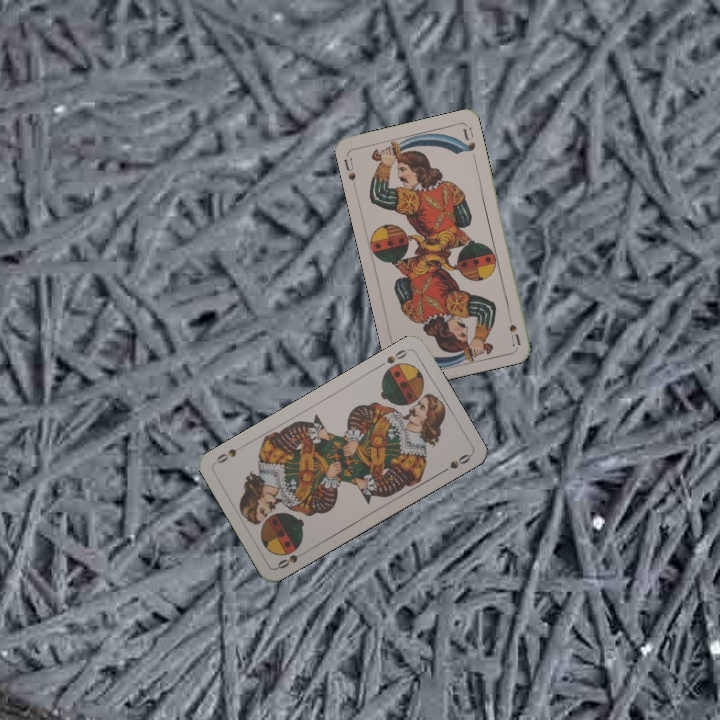SO: (273, 546, 310, 571), (374, 345, 411, 370)
SU: (504, 307, 523, 348), (340, 152, 359, 191)
